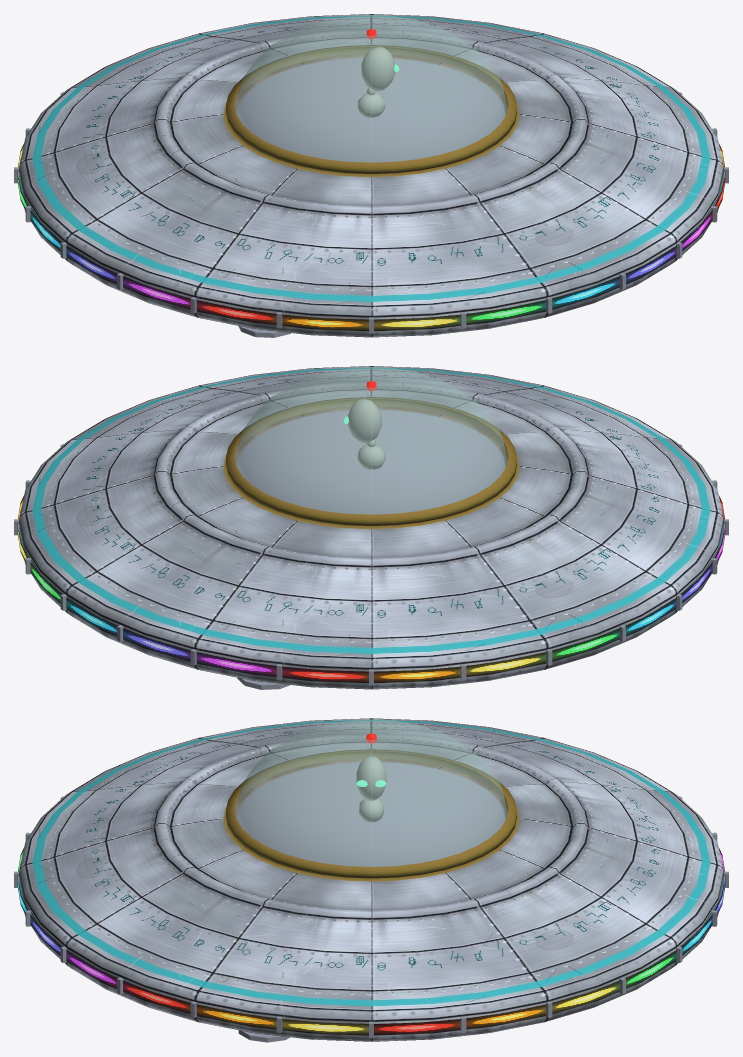
Rendered from ovni.glb.
The picture shows the model from 3 angles, top to bottom: view 1: azimuth 30°, elevation 25°; view 2: azimuth 150°, elevation 25°; view 3: azimuth 270°, elevation 25°; orthographic projection.
Parts seen in each view (by area): view 1: ovni_casco, ovni_cupula, ovni_luces, ovni_piloto; view 2: ovni_casco, ovni_cupula, ovni_luces, ovni_piloto; view 3: ovni_casco, ovni_cupula, ovni_luces, ovni_piloto.
Part boxes in pixels (x1,y1,x2,y2): ovni_casco: (14, 14, 728, 337); ovni_cupula: (235, 15, 507, 162); ovni_luces: (17, 144, 725, 330); ovni_piloto: (357, 47, 395, 117); ovni_casco: (14, 366, 728, 689); ovni_cupula: (235, 367, 507, 514); ovni_luces: (17, 496, 725, 682); ovni_piloto: (347, 399, 385, 469); ovni_casco: (14, 718, 728, 1042); ovni_cupula: (235, 719, 507, 866); ovni_luces: (17, 848, 725, 1034); ovni_piloto: (356, 756, 386, 822).
Bounding box in the file's own units: 18.26 × 6.22 × 18.26.
Materials: 6 (3 with a texture image).
